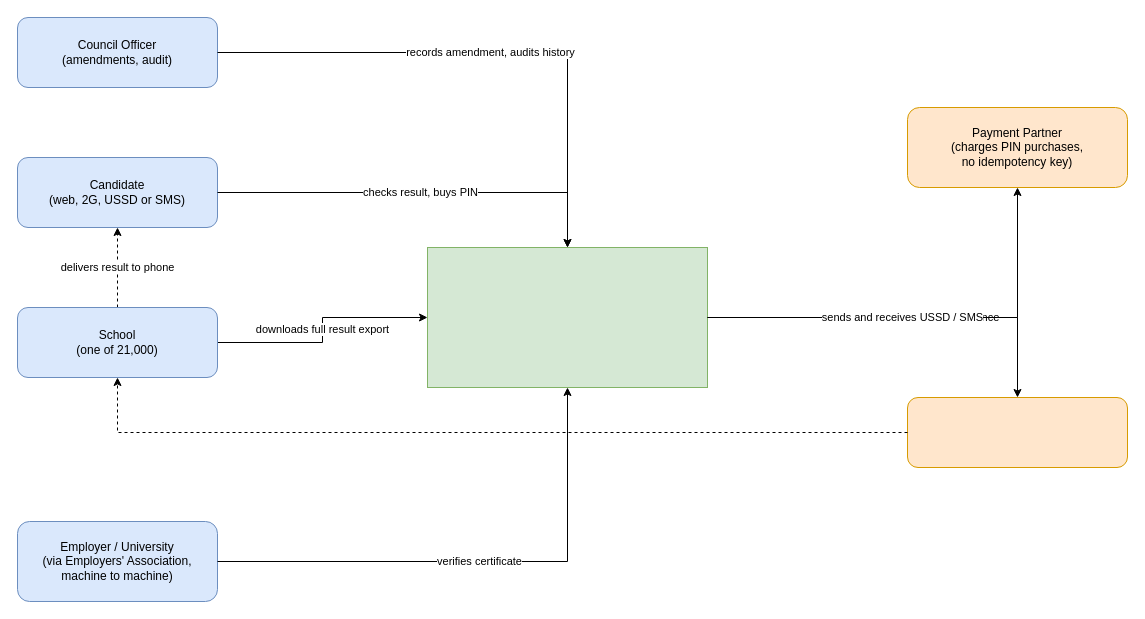
This 1145x619 diagram has some shape labels left out. The centre of each missing label's shape, as x and y in pixels:
"SMS / USSD Gateway (telco)" belongs at point (1017, 432).
"Takarda Results Platform" belongs at point (567, 317).
